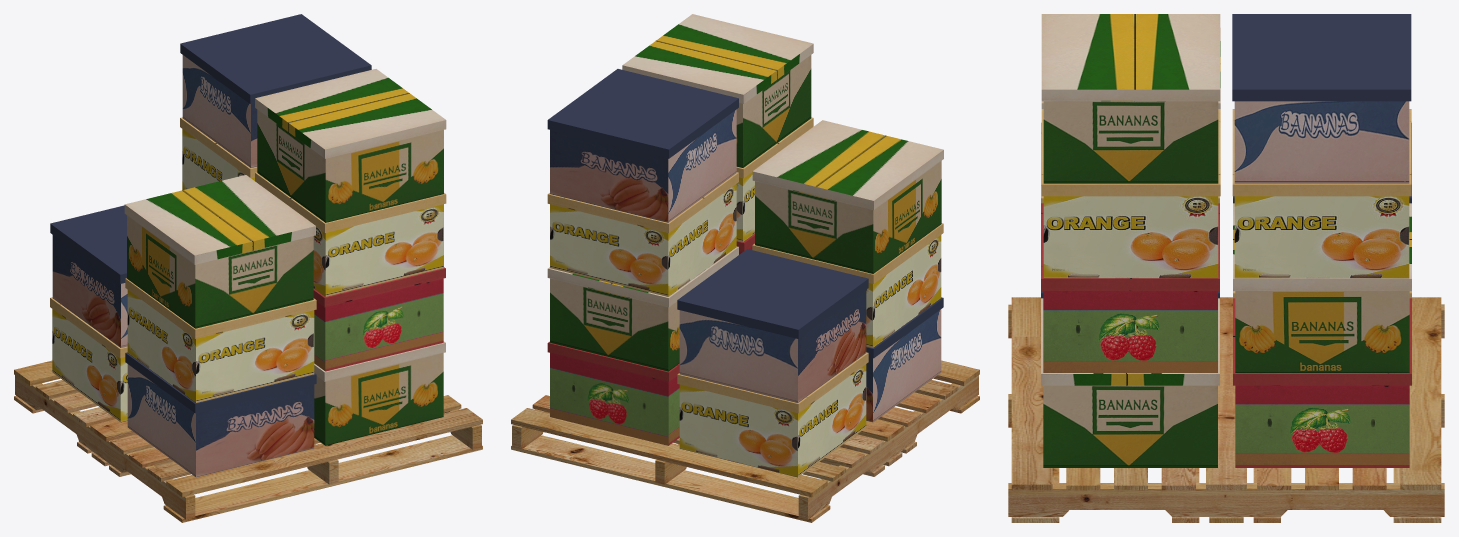
Rendered from Cardboard_boxGroup02b.glb.
The picture shows the model from 3 angles, left to right: view 1: azimuth 30°, elevation 25°; view 2: azimuth 150°, elevation 25°; view 3: azimuth 270°, elevation 25°; orthographic projection. The views are drawn at different scales.
Parts seen in each view (by area): view 1: Cardboard_boxGroup02b2, Cardboard_boxGroup02b1, Cardboard_boxG02b; view 2: Cardboard_boxGroup02b2, Cardboard_boxGroup02b1, Cardboard_boxG02b; view 3: Cardboard_boxGroup02b2, Cardboard_boxGroup02b1, Cardboard_boxG02b.
Part boxes in pixels (left/top/right/bottom): Cardboard_boxGroup02b2: left=50, top=69, right=446, bottom=445; Cardboard_boxGroup02b1: left=50, top=14, right=445, bottom=477; Cardboard_boxG02b: left=14, top=360, right=482, bottom=522; Cardboard_boxGroup02b2: left=547, top=14, right=943, bottom=477; Cardboard_boxGroup02b1: left=547, top=69, right=943, bottom=445; Cardboard_boxG02b: left=511, top=360, right=979, bottom=522; Cardboard_boxGroup02b2: left=1041, top=14, right=1411, bottom=467; Cardboard_boxGroup02b1: left=1041, top=14, right=1411, bottom=467; Cardboard_boxG02b: left=1008, top=297, right=1444, bottom=522.
Size of the model in its own units: 2.16 by 2.24 by 2.12.
3 materials, 3 textured.
